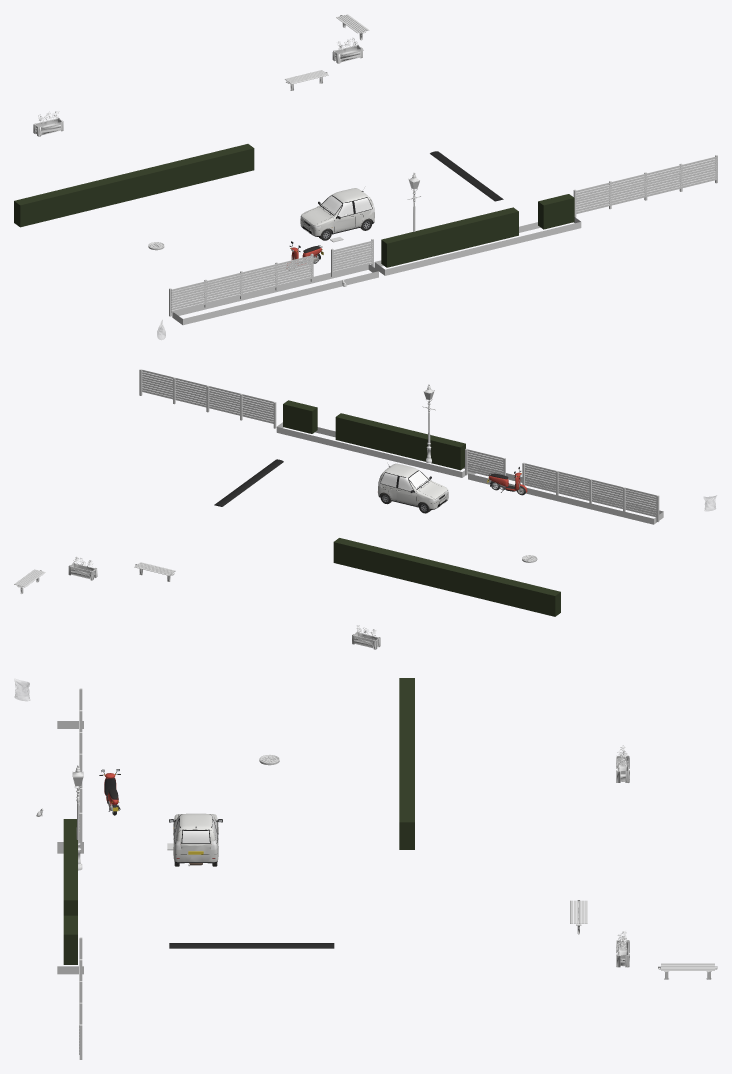
The model's file is cell_0_m1.lite.glb.
The picture shows the model from 3 angles, top to bottom: view 1: azimuth 30°, elevation 25°; view 2: azimuth 150°, elevation 25°; view 3: azimuth 270°, elevation 25°; orthographic projection. The views are drawn at different scales.
Visible parts, largest first — view 1: cell_0_m1; view 2: cell_0_m1; view 3: cell_0_m1.
Part boxes in pixels (x1=…): cell_0_m1: x1=14, y1=14, x2=717, y2=340; cell_0_m1: x1=14, y1=369, x2=716, y2=649; cell_0_m1: x1=14, y1=678, x2=717, y2=1059.
Size of the model in its own units: 28.88 by 4.17 by 23.9.
